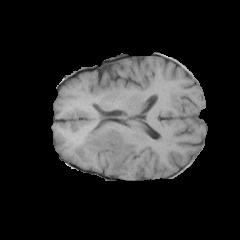glioma: (73, 124, 138, 172)
